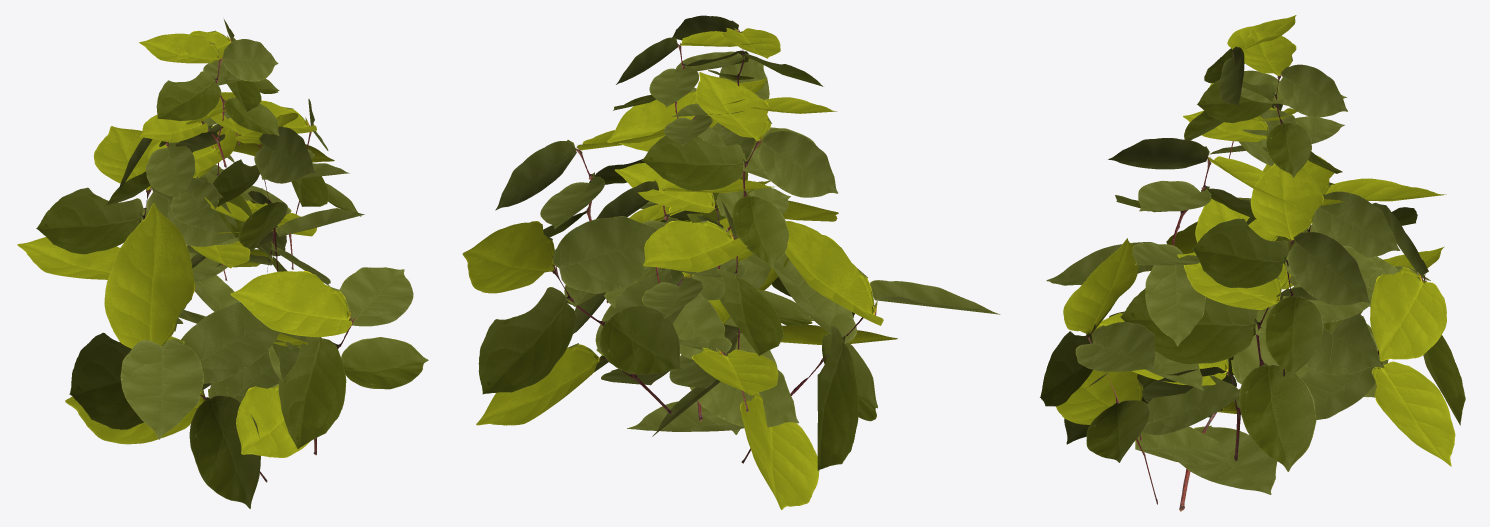
The model's file is PNW Plant_A_Small_1k.glb.
The picture shows the model from 3 angles, left to right: view 1: azimuth 30°, elevation 25°; view 2: azimuth 150°, elevation 25°; view 3: azimuth 270°, elevation 25°; orthographic projection. The views are drawn at different scales.
Visible parts, largest first — view 1: Plant_A_Small_1k; view 2: Plant_A_Small_1k; view 3: Plant_A_Small_1k.
Part boxes in pixels (left/top/right/bottom): Plant_A_Small_1k: left=17, top=19, right=428, bottom=508; Plant_A_Small_1k: left=462, top=15, right=1000, bottom=509; Plant_A_Small_1k: left=1040, top=15, right=1465, bottom=511.
Bounding box in the file's own units: 0.5842 × 0.6915 × 0.5981.
Materials: 1 (1 with a texture image).
